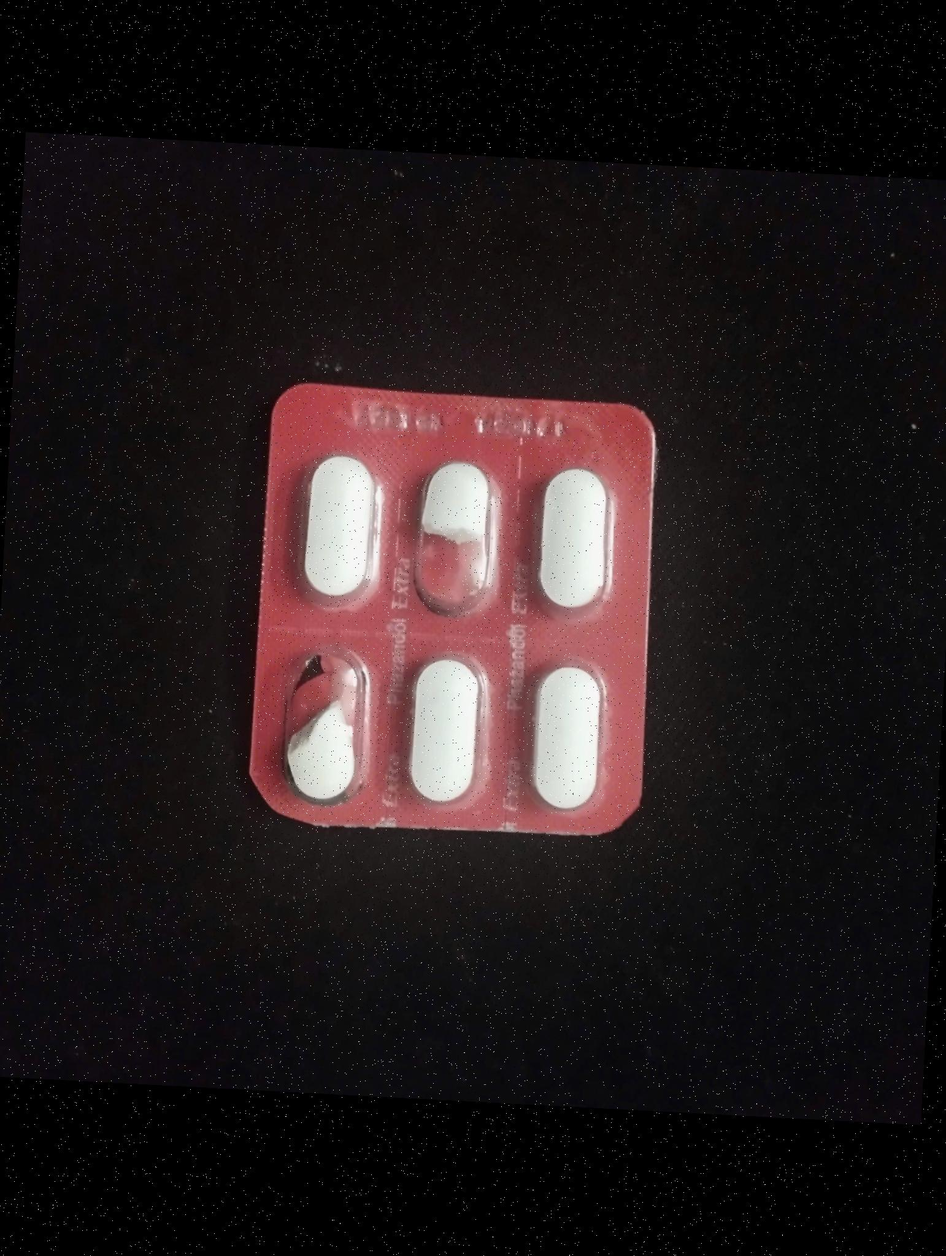Full: (523, 460, 612, 627), (296, 440, 386, 602), (399, 649, 488, 811), (519, 664, 603, 816)
Partial: (408, 450, 502, 624), (285, 646, 375, 818)
